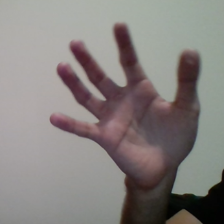left: (39, 17, 204, 188)
